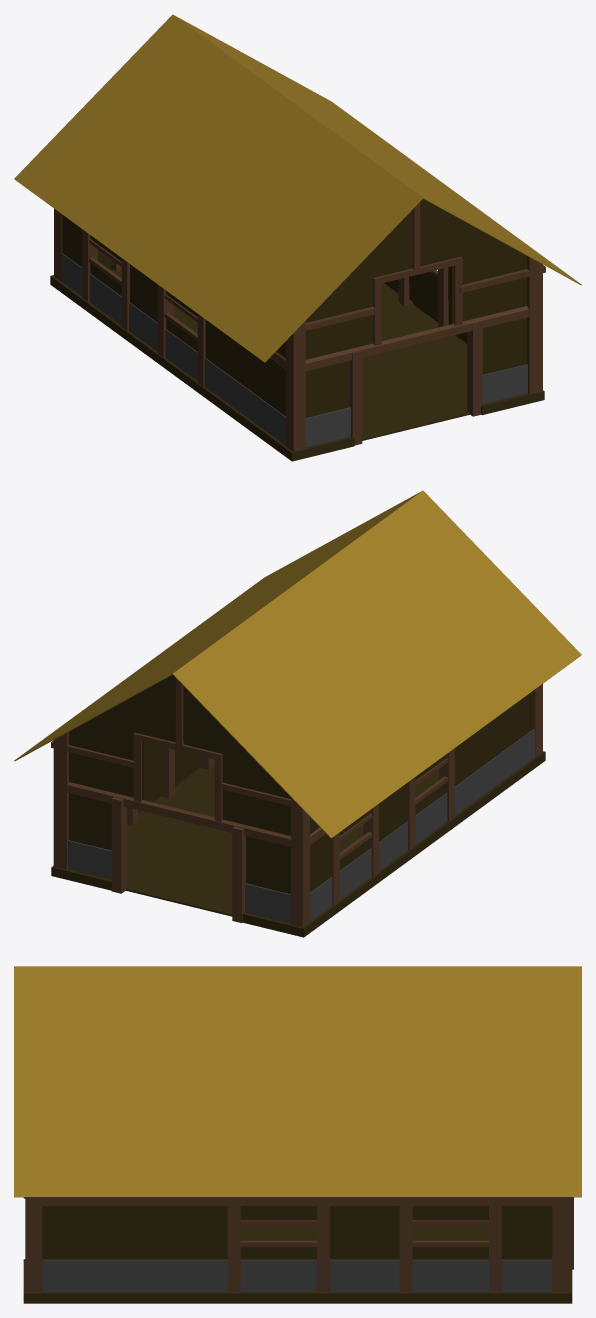
The model's file is Barn.fbx.
3 renders of one model, top to bottom at view 1: azimuth 30°, elevation 25°; view 2: azimuth 150°, elevation 25°; view 3: azimuth 270°, elevation 25°, orthographic. The views are drawn at different scales.
Visible parts, largest first — view 1: Roof, House, Frame; view 2: Roof, House, Frame; view 3: Roof, House, Frame.
Part boxes in pixels (left/top/right/bottom): Roof: left=14, top=14, right=581, bottom=362; House: left=50, top=198, right=544, bottom=461; Frame: left=54, top=202, right=545, bottom=451; Roof: left=14, top=490, right=581, bottom=838; House: left=51, top=674, right=545, bottom=937; Frame: left=51, top=678, right=542, bottom=927; Roof: left=14, top=966, right=581, bottom=1197; House: left=23, top=1197, right=572, bottom=1303; Frame: left=25, top=1197, right=573, bottom=1293.
Size of the model in its own units: 358 by 255 by 490.
